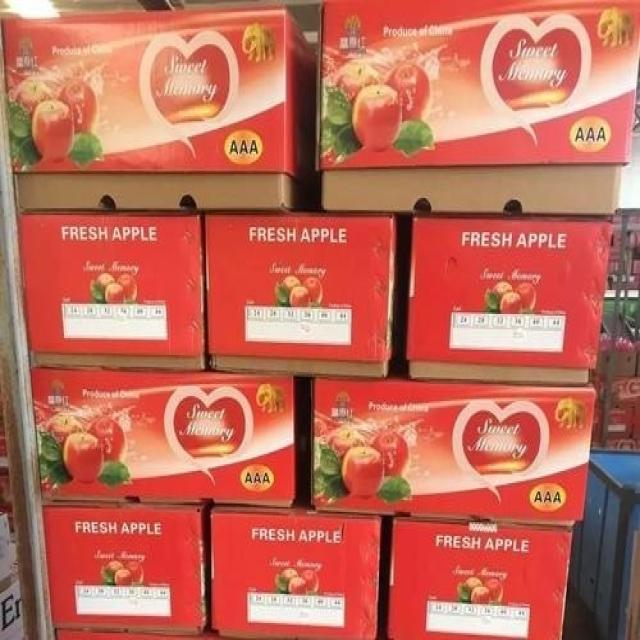box: (315, 0, 640, 215), (0, 9, 317, 210), (311, 374, 594, 526), (29, 370, 296, 507), (406, 213, 614, 382), (205, 212, 394, 377), (18, 210, 204, 370), (388, 514, 573, 640), (211, 505, 379, 640), (42, 498, 206, 633)
